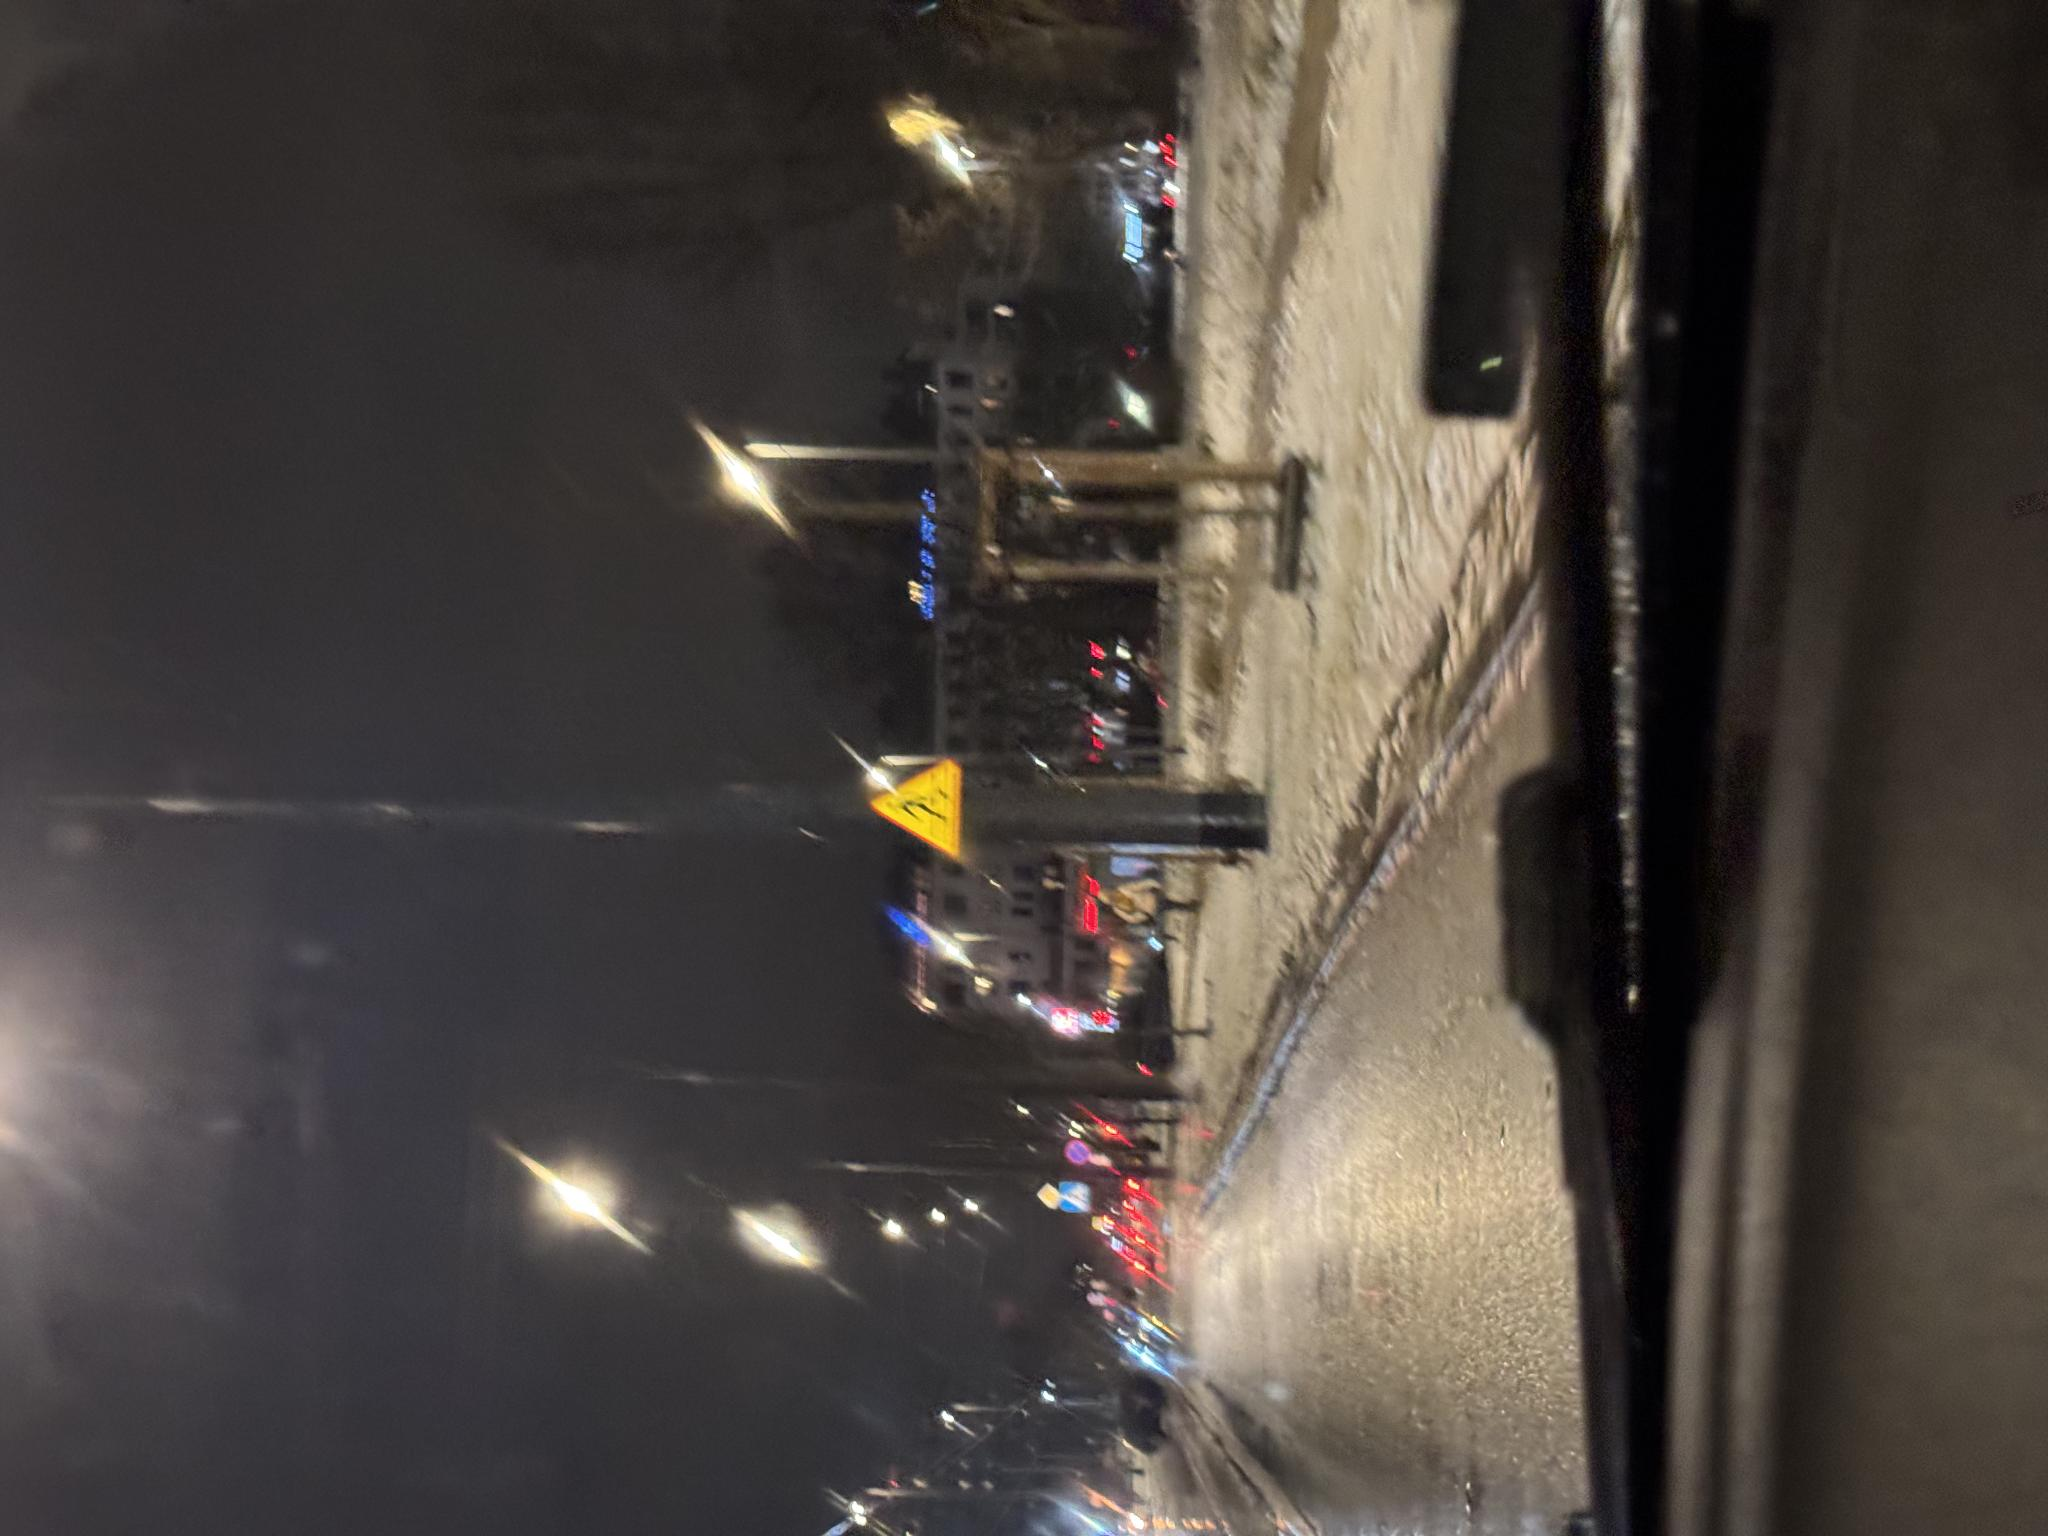warning: (677, 870, 777, 966)
